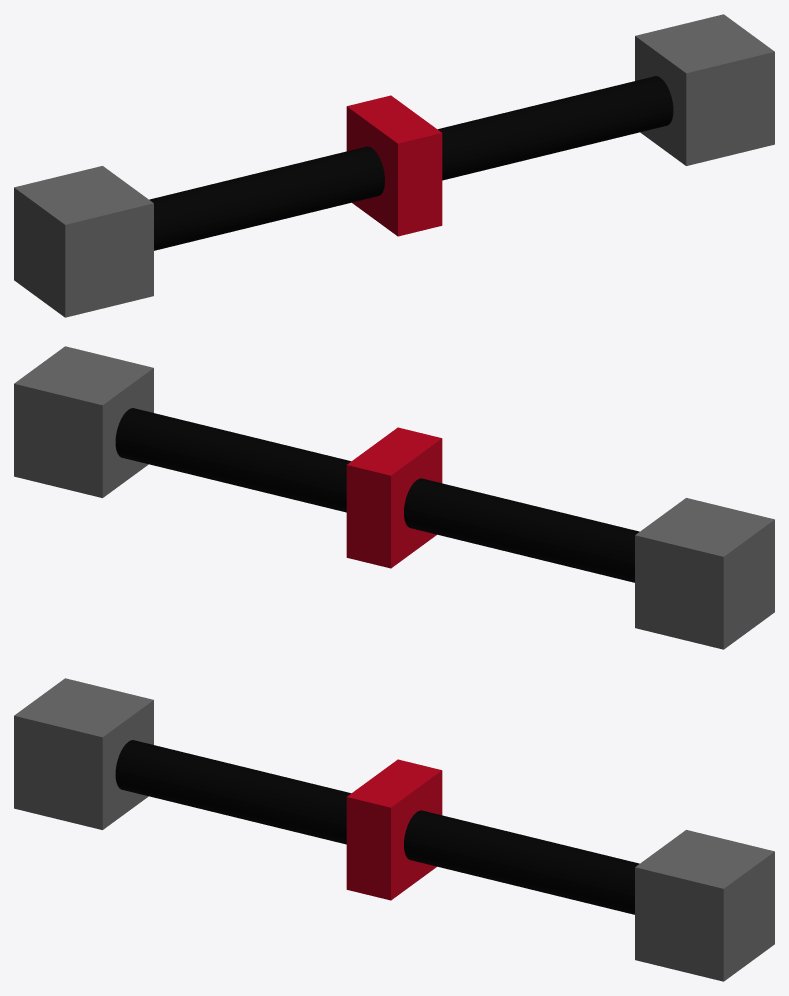
The model's file is Obstacle_01.fbx.
The picture shows the model from 3 angles, top to bottom: view 1: azimuth 30°, elevation 25°; view 2: azimuth 150°, elevation 25°; view 3: azimuth 330°, elevation 25°; orthographic projection.
Visible parts, largest first — view 1: Circle, Cube.001, Cube, Circle.001; view 2: Circle, Cube.001, Cube, Circle.001; view 3: Circle.001, Cube, Cube.001, Circle.
Boxes of the visible parts, <box> form: Circle: <box>149,101,419,250</box>; Cube.001: <box>14,166,153,317</box>; Cube: <box>635,14,774,165</box>; Circle.001: <box>369,76,673,230</box>; Circle: <box>369,433,639,582</box>; Cube.001: <box>635,498,774,649</box>; Cube: <box>14,346,153,497</box>; Circle.001: <box>115,408,419,562</box>; Circle.001: <box>369,765,639,914</box>; Cube: <box>635,830,774,981</box>; Cube.001: <box>14,678,153,829</box>; Circle: <box>115,740,419,894</box>.
Size of the model in its own units: 1600 by 200 by 200.
